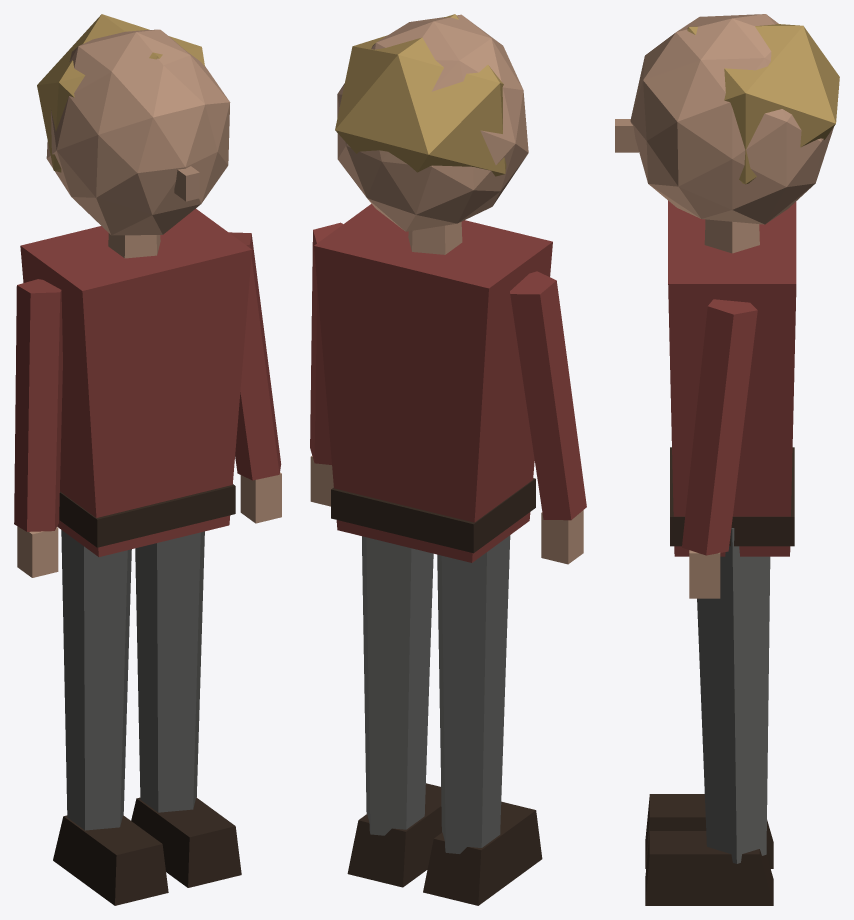
Rendered from child.glb.
The picture shows the model from 3 angles, left to right: view 1: azimuth 30°, elevation 25°; view 2: azimuth 150°, elevation 25°; view 3: azimuth 270°, elevation 25°; orthographic projection. The views are drawn at different scales.
Parts seen in each view (by area): view 1: child; view 2: child; view 3: child.
Boxes of the visible parts, x1,y1,x2,y2 form: child: (14, 14, 281, 905); child: (310, 14, 586, 905); child: (615, 14, 839, 905).
Size of the model in its own units: 0.4016 by 1.22 by 0.2894.
